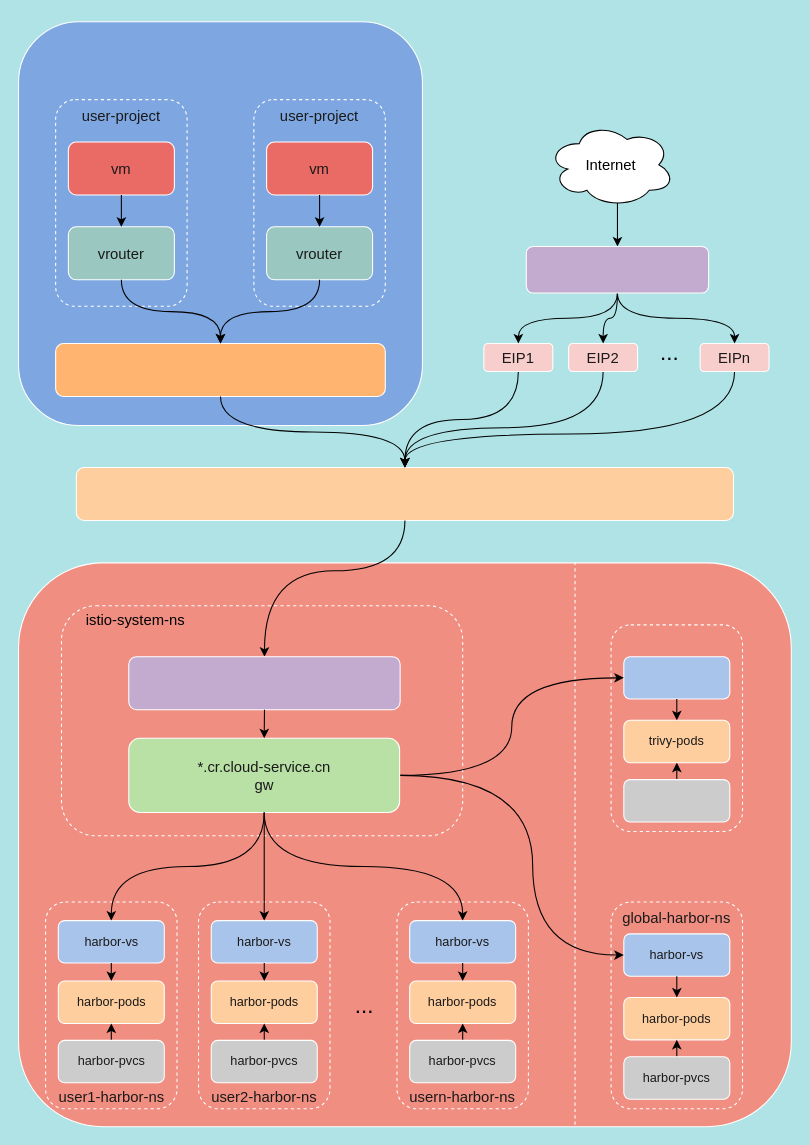
This 810x1145 diagram has some shape labels left out. Each missing label, with the box of its shape:
bz-network: (75, 466, 734, 520)
DNS-SERVER: (525, 245, 709, 293)
global k8s: (17, 562, 791, 1127)
global-trivy-ns: (610, 624, 743, 832)
iistio-ingress-gw: (128, 656, 400, 710)
openstack: (17, 21, 422, 426)
public-nerwork: (55, 342, 385, 396)
trivy-pvcs: (623, 779, 730, 822)
trivy-vs: (623, 656, 730, 699)
